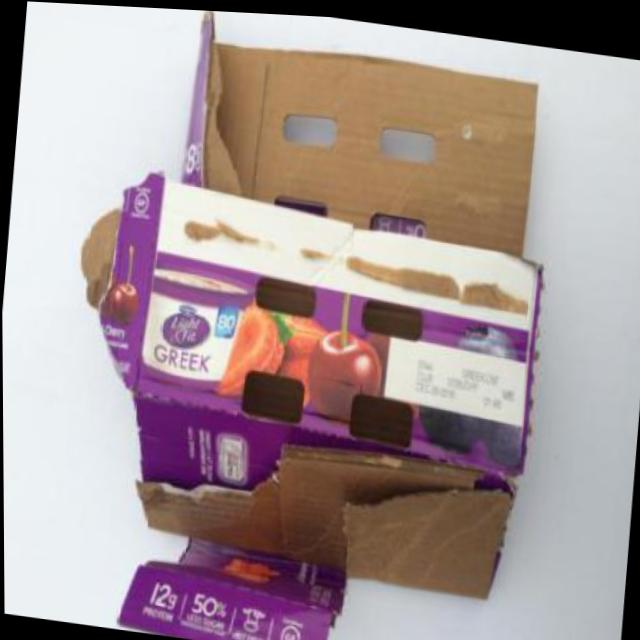box: (41, 2, 583, 640)
